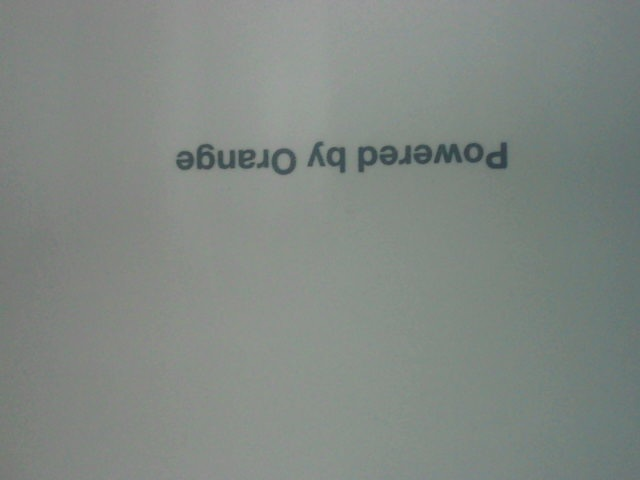AS_PowerByOrange: (160, 135, 516, 177)
